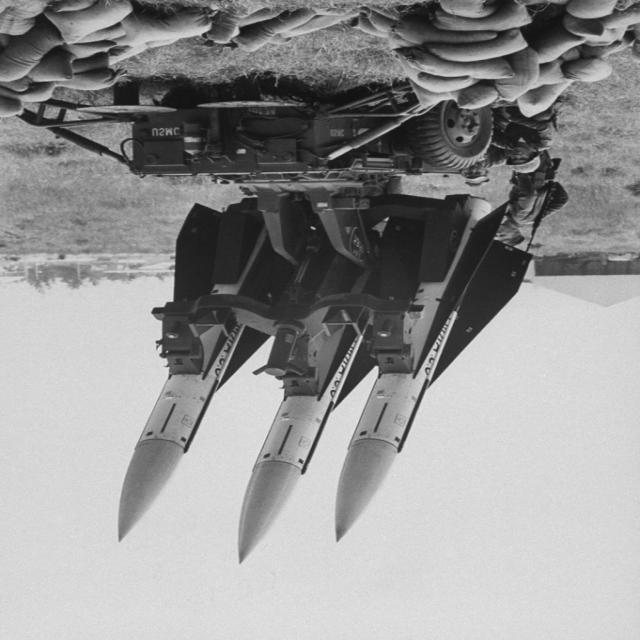missile: (329, 366, 437, 542), (118, 362, 222, 544), (235, 392, 338, 566)
